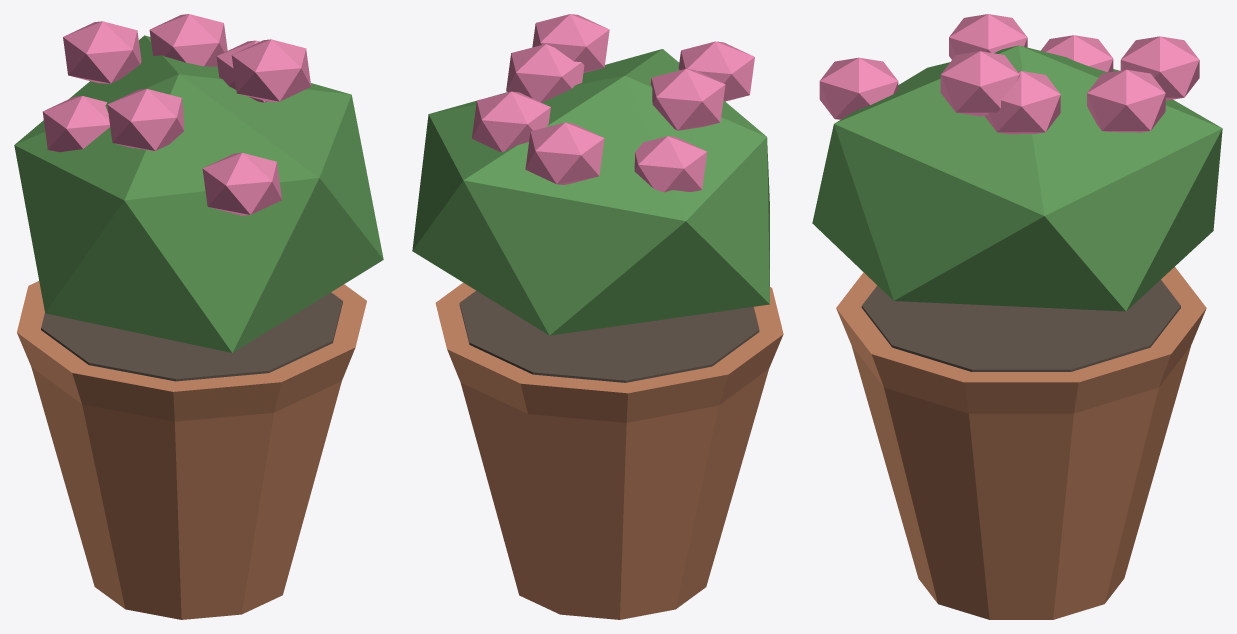
File: pot.glb
The picture shows the model from 3 angles, left to right: view 1: azimuth 30°, elevation 25°; view 2: azimuth 150°, elevation 25°; view 3: azimuth 270°, elevation 25°; orthographic projection. The views are drawn at different scales.
Visible parts, largest first — view 1: SG_Pot; view 2: SG_Pot; view 3: SG_Pot.
Boxes of the visible parts, bbox=[...] form: SG_Pot: bbox=[14, 14, 383, 619]; SG_Pot: bbox=[412, 14, 783, 619]; SG_Pot: bbox=[812, 14, 1222, 619].
Bounding box in the file's own units: 0.7546 × 1.2 × 0.7971.
